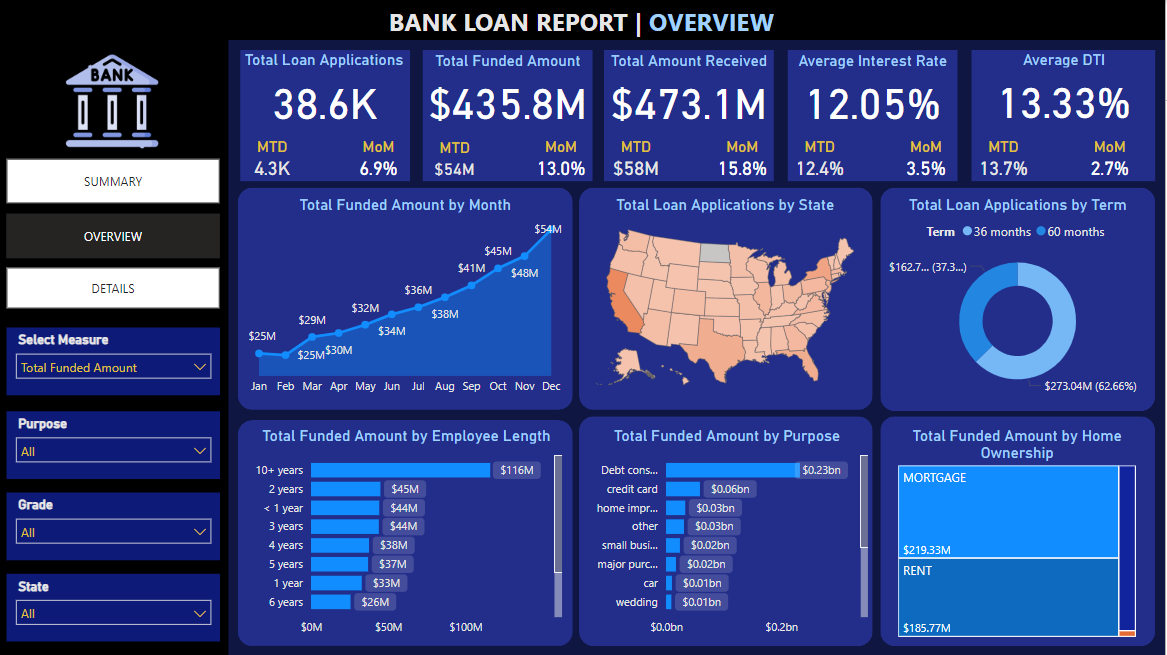

What the dashboard file says about the page in this screenshot:
{"tool":"powerbi","page":{"name":"OVERVIEW","canvas":[1280,720],"ordinal":1},"visuals":[{"type":"shape","box":[0,0,1280.3,43.9],"z":0},{"type":"shape","box":[0,43.9,252,676.5],"z":1000},{"type":"textbox","box":[403.4,0,472,54.9],"z":2000},{"type":"shape","box":[265.4,54.6,186.6,144.1],"z":3000},{"type":"shape","box":[465.5,54.9,186.6,144.1],"z":4000},{"type":"shape","box":[664.4,54.9,186.6,144.1],"z":5000},{"type":"shape","box":[866.1,54.9,186.6,144.1],"z":6000},{"type":"shape","box":[1067.6,54.9,201.7,144.1],"z":7000},{"type":"card","title":"Total Loan Applications","fields":{"Values":["CountNonNull(bank_loan_data.id)"]},"box":[265.4,54.6,186.6,87.8],"z":8000},{"type":"card","title":"Total Amount Received ","fields":{"Values":["Sum(bank_loan_data.total_payment)"]},"box":[664.4,56.3,186.6,86.4],"z":9000},{"type":"card","title":"Average Interest Rate","fields":{"Values":["Avg(bank_loan_data.int_rate)"]},"box":[866.1,56.3,186.6,86.4],"z":10000},{"type":"card","title":"Average DTI","fields":{"Values":["Avg(bank_loan_data.dti)"]},"box":[1075.8,54.9,186.6,86.4],"z":11000},{"type":"card","title":"MTD","fields":{"Values":["bank_loan_data.MTD Loan Applications"]},"box":[265.1,150.9,70,48],"z":12000},{"type":"card","title":"MoM","fields":{"Values":["bank_loan_data.MoM Loan Applications"]},"box":[381.8,150.9,70,48],"z":13000},{"type":"card","title":"Total Funded Amount","fields":{"Values":["Sum(bank_loan_data.loan_amount)"]},"box":[465.5,56.3,186.6,86.4],"z":14000},{"type":"card","title":"MTD","fields":{"Values":["bank_loan_data.MTD Funded Amount"]},"box":[465.5,152.3,70,48],"z":15000},{"type":"card","title":"MTD","fields":{"Values":["bank_loan_data.MTD Amount Received"]},"box":[664.4,150.9,70,48],"z":16000},{"type":"card","title":"MTD","fields":{"Values":["bank_loan_data.MTD Avg Interest Rate"]},"box":[866.1,150.9,70,48],"z":17000},{"type":"card","title":"MTD","fields":{"Values":["bank_loan_data.MTD Average DTI"]},"box":[1067.9,150.9,70,48],"z":18000},{"type":"card","title":"MoM","fields":{"Values":["bank_loan_data.MoM Total Funded Amount"]},"box":[582.1,150.9,70,48],"z":19000},{"type":"card","title":"MoM","fields":{"Values":["bank_loan_data.MoM Amount Received"]},"box":[781.1,150.9,70,48],"z":20000},{"type":"card","title":"MoM","fields":{"Values":["bank_loan_data.MoM Average Interest Rate"]},"box":[982.8,150.9,70,48],"z":21000},{"type":"card","title":"MoM","fields":{"Values":["bank_loan_data.MoM Average DTI"]},"box":[1184.5,150.9,70,48],"z":22000},{"type":"shape","box":[261.8,205.8,367.8,244.3],"z":23000},{"type":"slicer","fields":{"Values":["bank_loan_data.address_state"]},"box":[8.2,629.8,234.6,74.1],"z":24000},{"type":"slicer","fields":{"Values":["bank_loan_data.grade"]},"box":[8.2,540.7,234.6,74.1],"z":25000},{"type":"slicer","fields":{"Values":["bank_loan_data.purpose"]},"box":[8.2,451.5,234.6,74.1],"z":26000},{"type":"pageNavigator","box":[8.2,174.3,234.6,49.4],"z":27000},{"type":"pageNavigator","box":[8.2,234.6,234.6,49.4],"z":28000},{"type":"pageNavigator","box":[8.2,293.7,234.6,45.3],"z":29000},{"type":"shape","box":[636.7,205.8,322.5,244.3],"z":30000},{"type":"shape","box":[967.4,205.8,301.9,245.6],"z":31000},{"type":"lineChart","fields":{"Y":["bank_loan_data.Total Funded Amount"],"Category":["Date.Month"]},"box":[268.7,214.1,354,227.8],"z":32000},{"type":"slicer","fields":{"Values":["Select Measure.Select Measure"]},"box":[8.2,359.5,234.6,74.1],"z":33000},{"type":"shapeMap","title":"Total Loan Applications by State","fields":{"Value":["bank_loan_data.Total Funded Amount"],"Category":["bank_loan_data.address_state"]},"box":[635.3,214.1,323.8,227.8],"z":34000},{"type":"donutChart","title":"Total Loan Applications by Term","fields":{"Y":["bank_loan_data.Total Funded Amount"],"Category":["bank_loan_data.term"]},"box":[967.4,214.1,301.9,227.8],"z":35000},{"type":"shape","box":[967.4,456.9,301.9,252.5],"z":36000},{"type":"shape","box":[636.7,456.9,322.5,252.5],"z":37000},{"type":"shape","box":[262.1,461.1,367.8,248.4],"z":38000},{"type":"clusteredBarChart","title":"Total Funded Amount by Employee Length","fields":{"Y":["bank_loan_data.Total Funded Amount"],"Category":["bank_loan_data.emp_length"]},"box":[271.7,467.9,351.3,238.8],"z":39000},{"type":"clusteredBarChart","title":"Total Funded Amount by Purpose","fields":{"Y":["bank_loan_data.Total Funded Amount"],"Category":["bank_loan_data.purpose"]},"box":[639.5,467.9,319.7,238.8],"z":40000},{"type":"treemap","title":"Total Funded Amount by Home Ownership","fields":{"Values":["bank_loan_data.Total Funded Amount"],"Group":["bank_loan_data.home_ownership"]},"box":[982.5,467.9,270.3,236],"z":41000},{"type":"image","box":[65.9,52.1,116.6,116.6],"z":41001}]}

Visuals, with their boxes in screenshot pixels (x1, y1, x2, y2), scaled from the page's 1280x720 canvas onto the 1167x655 screenshot:
shape: left=0, top=0, right=1166, bottom=40
shape: left=0, top=40, right=230, bottom=654
textbox: left=368, top=0, right=798, bottom=50
shape: left=242, top=50, right=412, bottom=181
shape: left=424, top=50, right=595, bottom=181
shape: left=606, top=50, right=776, bottom=181
shape: left=790, top=50, right=960, bottom=181
shape: left=973, top=50, right=1157, bottom=181
"Total Loan Applications" card: left=242, top=50, right=412, bottom=130
"Total Amount Received " card: left=606, top=51, right=776, bottom=130
"Average Interest Rate" card: left=790, top=51, right=960, bottom=130
"Average DTI" card: left=981, top=50, right=1151, bottom=129
"MTD" card: left=242, top=137, right=306, bottom=181
"MoM" card: left=348, top=137, right=412, bottom=181
"Total Funded Amount" card: left=424, top=51, right=595, bottom=130
"MTD" card: left=424, top=139, right=488, bottom=182
"MTD" card: left=606, top=137, right=670, bottom=181
"MTD" card: left=790, top=137, right=853, bottom=181
"MTD" card: left=974, top=137, right=1037, bottom=181
"MoM" card: left=531, top=137, right=595, bottom=181
"MoM" card: left=712, top=137, right=776, bottom=181
"MoM" card: left=896, top=137, right=960, bottom=181
"MoM" card: left=1080, top=137, right=1144, bottom=181
shape: left=239, top=187, right=574, bottom=409
slicer - bank_loan_data.address_state: left=7, top=573, right=221, bottom=640
slicer - bank_loan_data.grade: left=7, top=492, right=221, bottom=559
slicer - bank_loan_data.purpose: left=7, top=411, right=221, bottom=478
pageNavigator: left=7, top=159, right=221, bottom=204
pageNavigator: left=7, top=213, right=221, bottom=258
pageNavigator: left=7, top=267, right=221, bottom=308
shape: left=580, top=187, right=875, bottom=409
shape: left=882, top=187, right=1157, bottom=411
lineChart - bank_loan_data.Total Funded Amount x Date.Month: left=245, top=195, right=568, bottom=402
slicer - Select Measure.Select Measure: left=7, top=327, right=221, bottom=394
"Total Loan Applications by State" shapeMap: left=579, top=195, right=874, bottom=402
"Total Loan Applications by Term" donutChart: left=882, top=195, right=1157, bottom=402
shape: left=882, top=416, right=1157, bottom=645
shape: left=580, top=416, right=875, bottom=645
shape: left=239, top=419, right=574, bottom=645
"Total Funded Amount by Employee Length" clusteredBarChart: left=248, top=426, right=568, bottom=643
"Total Funded Amount by Purpose" clusteredBarChart: left=583, top=426, right=875, bottom=643
"Total Funded Amount by Home Ownership" treemap: left=896, top=426, right=1142, bottom=640
image: left=60, top=47, right=166, bottom=153
